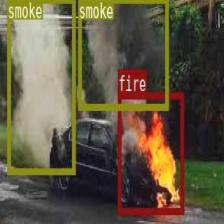fire: (118, 92, 183, 213)
smoke: (7, 0, 75, 174), (77, 0, 168, 110)
